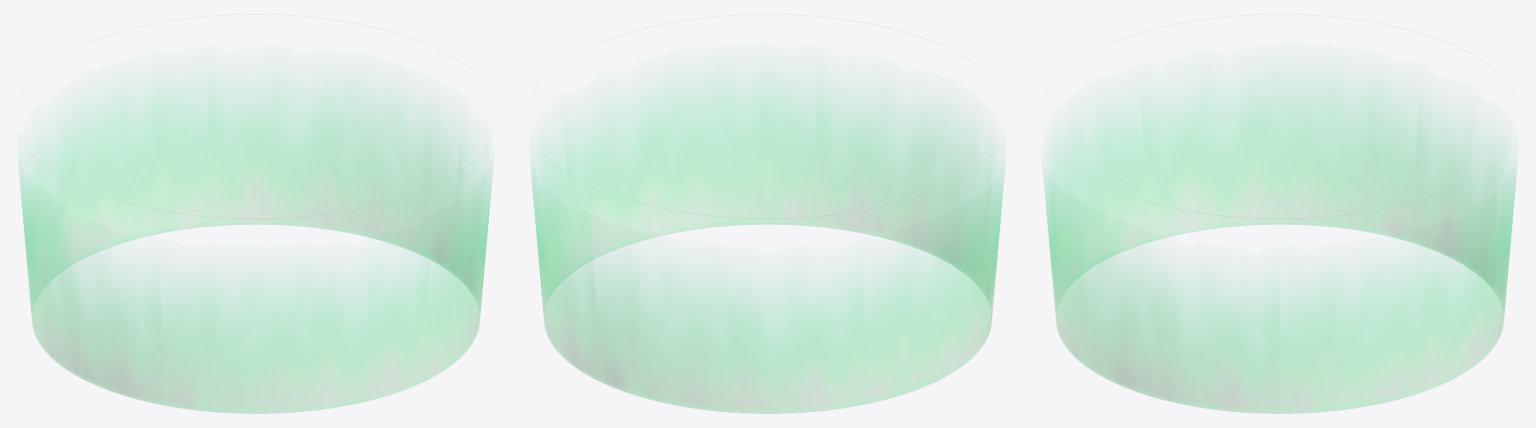
Rendered from shock_wall_emerald.glb.
The picture shows the model from 3 angles, left to right: view 1: azimuth 30°, elevation 25°; view 2: azimuth 150°, elevation 25°; view 3: azimuth 270°, elevation 25°; orthographic projection.
Visible parts, largest first — view 1: wall; view 2: wall; view 3: wall.
Part boxes in pixels (x1,y1,x2,y2): wall: (19, 14, 492, 413); wall: (531, 15, 1003, 413); wall: (1044, 14, 1516, 413).
Size of the model in its own units: 2.16 by 1 by 2.16.
Materials: 1 (1 with a texture image).
